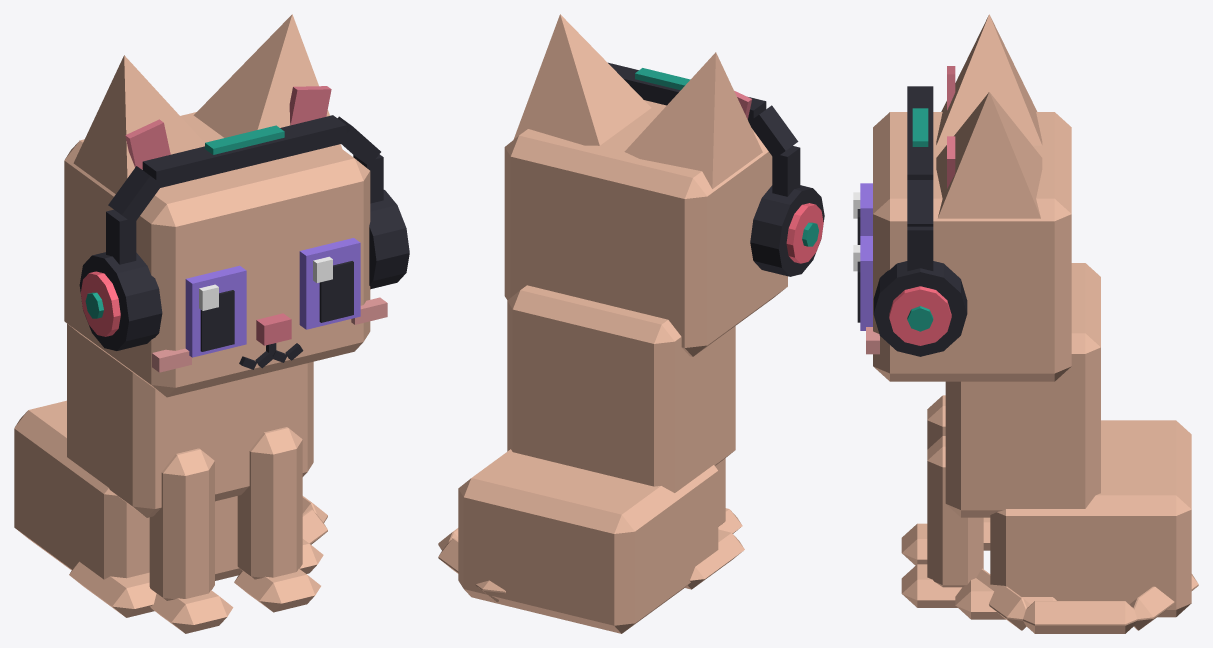
The model's file is CatCafe_Cat_Sphynx_Sit.glb.
3 views of the same model, side by side, from view 1: azimuth 30°, elevation 25°; view 2: azimuth 150°, elevation 25°; view 3: azimuth 270°, elevation 25° (orthographic). The views are drawn at different scales.
Parts seen in each view (by area): view 1: CatCafe_Cat_Sphynx_Sit_Body, CatCafe_Cat_Sphynx_Sit_Head, CatCafe_Cat_Sphynx_Sit_Prop, CatCafe_Cat_Sphynx_Sit_LegF1, CatCafe_Cat_Sphynx_Sit_LegF2, CatCafe_Cat_Sphynx_Sit_EarL, CatCafe_Cat_Sphynx_Sit_EarR, CatCafe_Cat_Sphynx_Sit_Eye1, CatCafe_Cat_Sphynx_Sit_Eye2, CatCafe_Cat_Sphynx_Sit_Tail; view 2: CatCafe_Cat_Sphynx_Sit_Body, CatCafe_Cat_Sphynx_Sit_Head, CatCafe_Cat_Sphynx_Sit_Prop, CatCafe_Cat_Sphynx_Sit_EarL, CatCafe_Cat_Sphynx_Sit_EarR, CatCafe_Cat_Sphynx_Sit_Tail, CatCafe_Cat_Sphynx_Sit_LegF2; view 3: CatCafe_Cat_Sphynx_Sit_Body, CatCafe_Cat_Sphynx_Sit_Head, CatCafe_Cat_Sphynx_Sit_Prop, CatCafe_Cat_Sphynx_Sit_EarL, CatCafe_Cat_Sphynx_Sit_LegF1, CatCafe_Cat_Sphynx_Sit_EarR, CatCafe_Cat_Sphynx_Sit_Tail, CatCafe_Cat_Sphynx_Sit_LegF2, CatCafe_Cat_Sphynx_Sit_Eye1, CatCafe_Cat_Sphynx_Sit_Eye2.
Part boxes in pixels (x1=…): CatCafe_Cat_Sphynx_Sit_Body: x1=14, y1=324, x2=323, y2=617; CatCafe_Cat_Sphynx_Sit_Head: x1=64, y1=112, x2=387, y2=397; CatCafe_Cat_Sphynx_Sit_Prop: x1=79, y1=115, x2=409, y2=350; CatCafe_Cat_Sphynx_Sit_LegF1: x1=234, y1=427, x2=320, y2=612; CatCafe_Cat_Sphynx_Sit_LegF2: x1=149, y1=448, x2=233, y2=633; CatCafe_Cat_Sphynx_Sit_EarL: x1=193, y1=14, x2=342, y2=148; CatCafe_Cat_Sphynx_Sit_EarR: x1=73, y1=55, x2=204, y2=193; CatCafe_Cat_Sphynx_Sit_Eye1: x1=299, y1=238, x2=360, y2=329; CatCafe_Cat_Sphynx_Sit_Eye2: x1=185, y1=265, x2=246, y2=357; CatCafe_Cat_Sphynx_Sit_Tail: x1=302, y1=496, x2=327, y2=544; CatCafe_Cat_Sphynx_Sit_Body: x1=458, y1=285, x2=744, y2=633; CatCafe_Cat_Sphynx_Sit_Head: x1=504, y1=100, x2=787, y2=356; CatCafe_Cat_Sphynx_Sit_Prop: x1=608, y1=62, x2=824, y2=276; CatCafe_Cat_Sphynx_Sit_EarL: x1=513, y1=14, x2=651, y2=145; CatCafe_Cat_Sphynx_Sit_EarR: x1=624, y1=52, x2=762, y2=188; CatCafe_Cat_Sphynx_Sit_Tail: x1=438, y1=528, x2=505, y2=601; CatCafe_Cat_Sphynx_Sit_LegF2: x1=715, y1=458, x2=742, y2=533; CatCafe_Cat_Sphynx_Sit_Body: x1=945, y1=263, x2=1191, y2=619; CatCafe_Cat_Sphynx_Sit_Head: x1=866, y1=112, x2=1071, y2=381; CatCafe_Cat_Sphynx_Sit_Prop: x1=873, y1=86, x2=967, y2=356; CatCafe_Cat_Sphynx_Sit_EarL: x1=936, y1=92, x2=1042, y2=218; CatCafe_Cat_Sphynx_Sit_LegF1: x1=901, y1=436, x2=983, y2=607; CatCafe_Cat_Sphynx_Sit_EarR: x1=936, y1=14, x2=1042, y2=145; CatCafe_Cat_Sphynx_Sit_Tail: x1=976, y1=568, x2=1198, y2=633; CatCafe_Cat_Sphynx_Sit_LegF2: x1=901, y1=395, x2=945, y2=565; CatCafe_Cat_Sphynx_Sit_Eye1: x1=853, y1=236, x2=872, y2=330; CatCafe_Cat_Sphynx_Sit_Eye2: x1=853, y1=183, x2=872, y2=244.
Size of the model in its own units: 1.12 by 1.95 by 1.16.
1 material, 1 textured.
